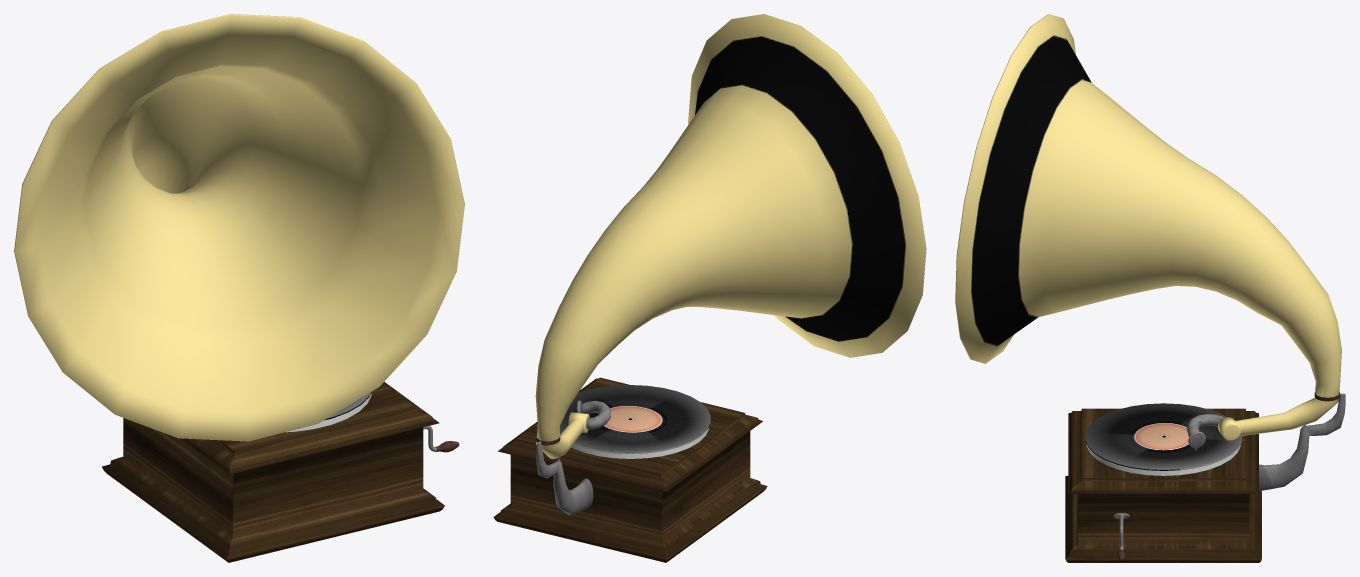
The picture shows the model from 3 angles, left to right: view 1: azimuth 30°, elevation 25°; view 2: azimuth 150°, elevation 25°; view 3: azimuth 270°, elevation 25°; orthographic projection. The views are drawn at different scales.
Visible parts, largest first — view 1: cone_main_low, base_low; view 2: cone_main_low, base_low, lp_main_low, cone_holder_low, lp_base_low, cone_needle_low; view 3: cone_main_low, base_low, lp_main_low, cone_holder_low, lp_base_low, cone_needle_low.
Part boxes in pixels (left/top/right/bottom): cone_main_low: left=14, top=14, right=464, bottom=441; base_low: left=102, top=382, right=444, bottom=562; cone_main_low: left=535, top=14, right=926, bottom=458; base_low: left=493, top=377, right=767, bottom=562; lp_main_low: left=560, top=385, right=710, bottom=453; cone_holder_low: left=536, top=435, right=593, bottom=514; lp_base_low: left=571, top=427, right=708, bottom=458; cone_needle_low: left=576, top=400, right=610, bottom=429; cone_main_low: left=955, top=14, right=1341, bottom=441; base_low: left=1065, top=408, right=1261, bottom=562; lp_main_low: left=1085, top=403, right=1242, bottom=470; cone_holder_low: left=1259, top=392, right=1345, bottom=490; lp_base_low: left=1086, top=444, right=1240, bottom=475; cone_needle_low: left=1187, top=414, right=1224, bottom=451.
Bounding box in the file's own units: 1.08 × 1.25 × 0.9909.
4 materials, 4 textured.
